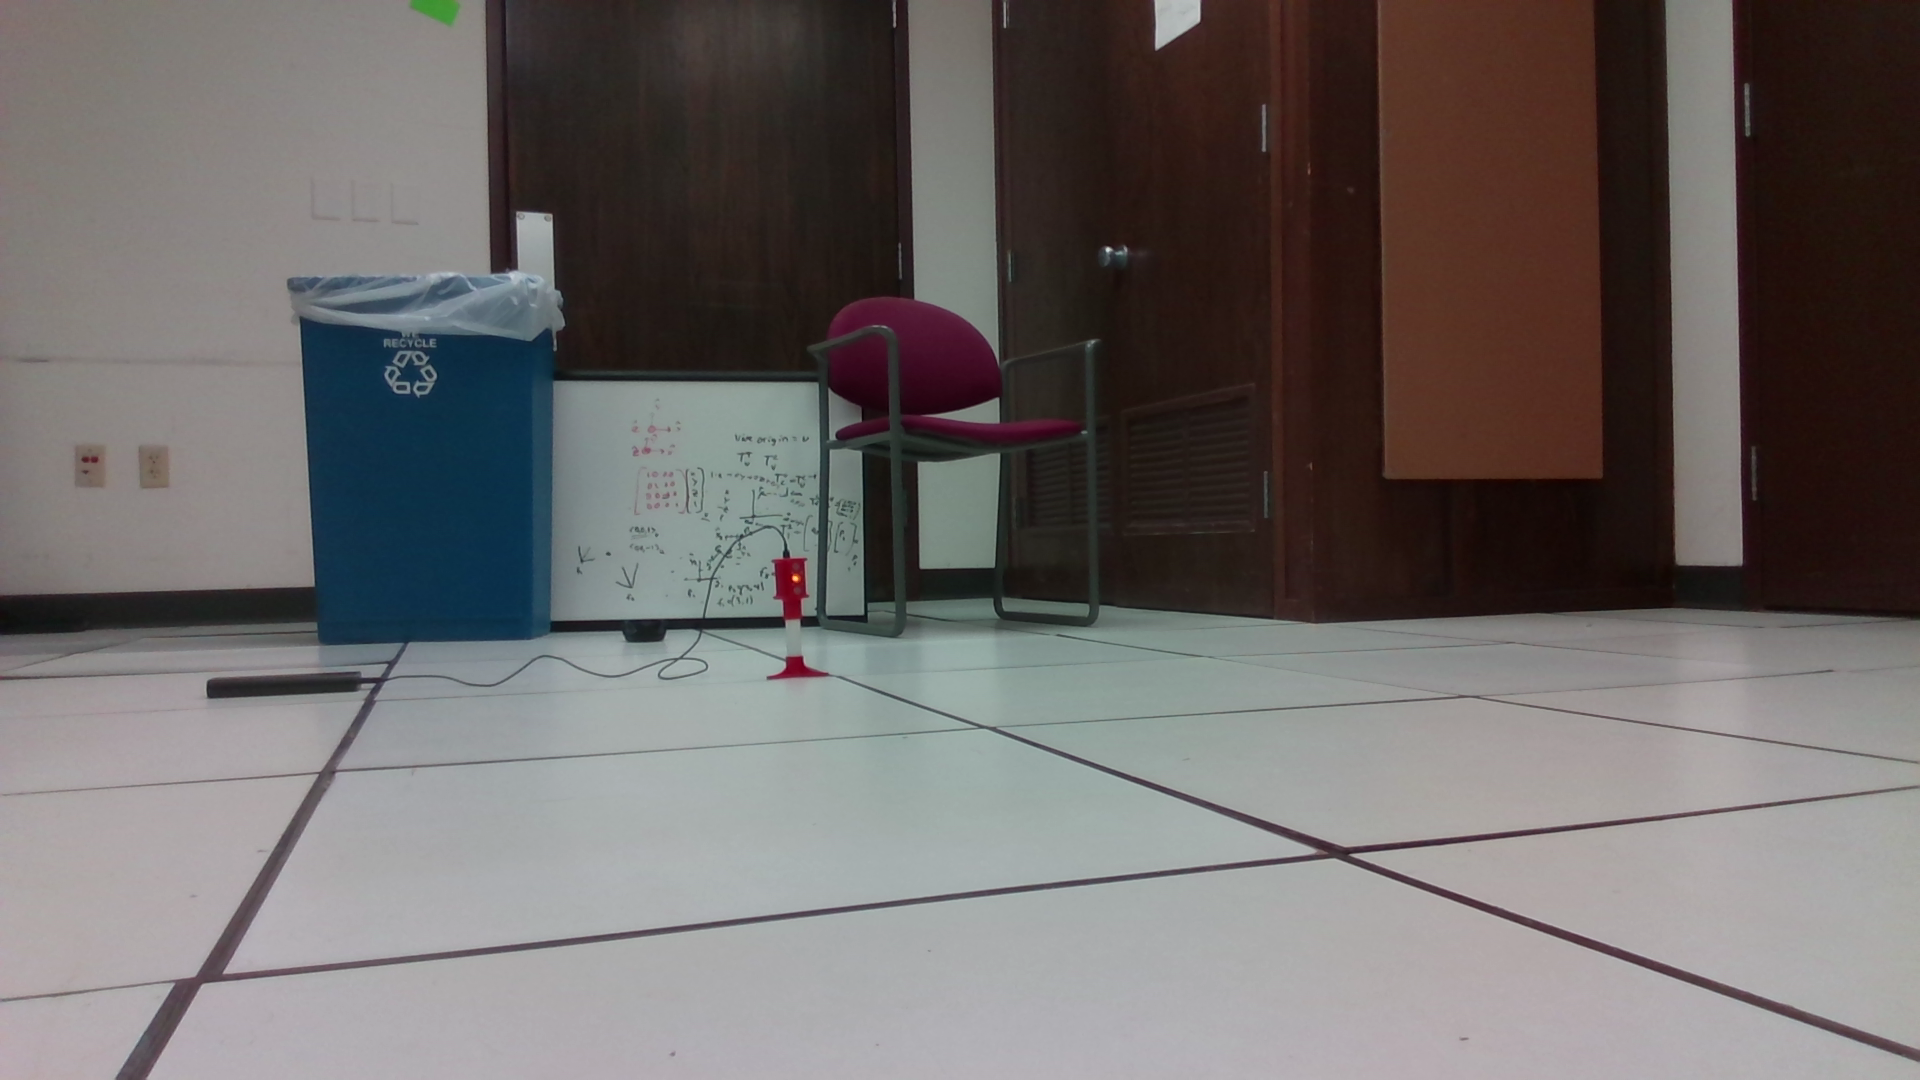stoplight: (774, 555, 808, 621)
